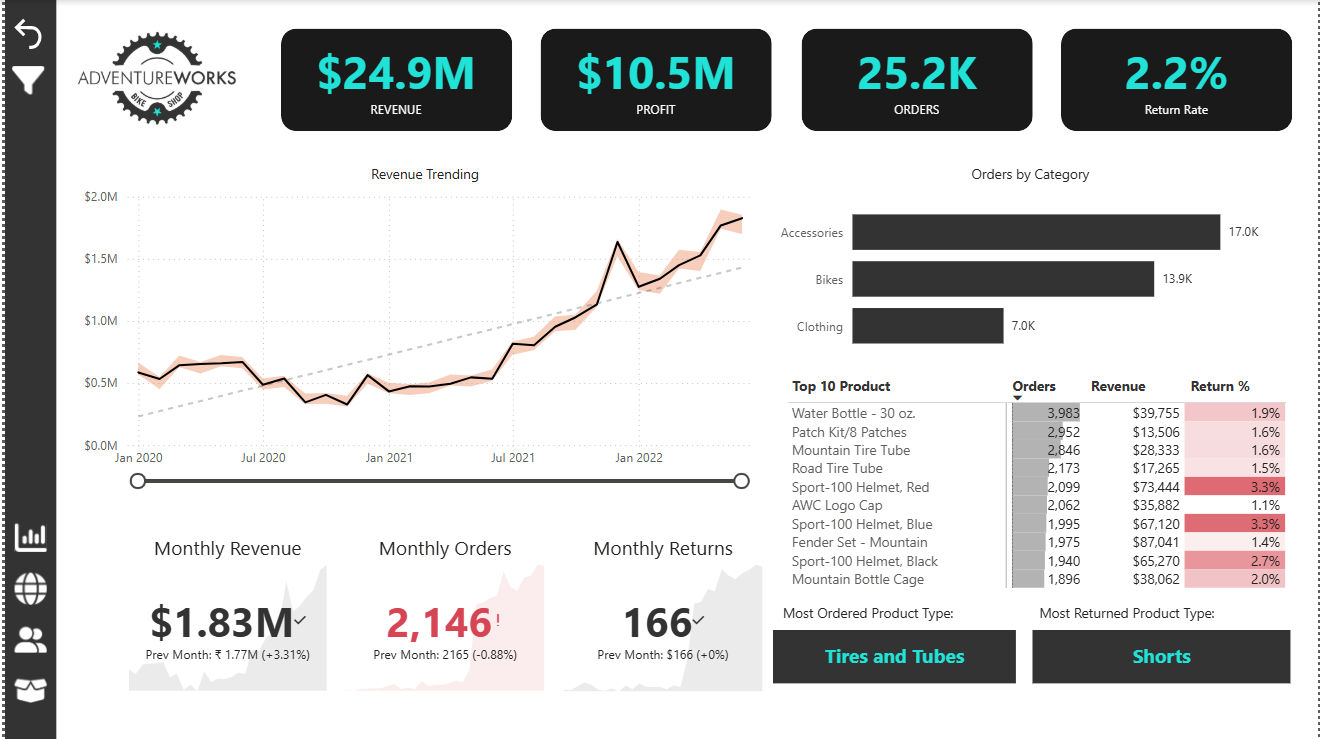

The page's visual inventory and layout, read from the dashboard file:
{"tool":"powerbi","page":{"name":"Exec Dashboard","canvas":[1280,720],"ordinal":0},"visuals":[{"type":"card","fields":{"Values":["Measure Table.Total Revenue"]},"box":[250.8,25.9,258.7,100],"z":0,"group":"g2"},{"type":"image","title":"AW Logo","box":[54,27,188.9,100],"z":0},{"type":"shape","box":[268.3,27,225.4,100],"z":0,"group":"g1"},{"type":"group","id":"g1","title":"KPI Background","box":[268.3,27,985.7,100],"z":0,"group":"g3"},{"type":"actionButton","box":[0,504.2,49.7,39.5],"z":0,"group":"g4"},{"type":"shape","title":"Left Nav Background","box":[0,0,50,720.6],"z":1000},{"type":"group","id":"g2","title":"KPI Values","box":[250.8,25.9,1019.6,100],"z":1000,"group":"g3"},{"type":"card","fields":{"Values":["Measure Table.Total Profit"]},"box":[503.9,25.9,259.3,100],"z":1000,"group":"g2"},{"type":"shape","box":[521.7,27,225.4,100],"z":1000,"group":"g1"},{"type":"actionButton","box":[0,603.6,49.7,39.5],"z":1000,"group":"g4"},{"type":"group","id":"g3","title":"KPIs Cards","box":[250.8,25.9,1019.6,101.1],"z":2000},{"type":"card","fields":{"Values":["Measure Table.Total Orders"]},"box":[757.5,25.9,259.3,100],"z":2000,"group":"g2"},{"type":"shape","box":[775.2,27,225.4,100],"z":2000,"group":"g1"},{"type":"actionButton","box":[0,653.3,49.7,39.5],"z":2000,"group":"g4"},{"type":"card","fields":{"Values":["Measure Table.Return Rate"]},"box":[1011.1,25.9,259.3,100],"z":3000,"group":"g2"},{"type":"shape","box":[1028.6,27,225.4,100],"z":3000,"group":"g1"},{"type":"lineChart","title":"Revenue Trending","fields":{"Category":["Calendar Lookup.Start of Month"],"Y":["Measure Table.Total Revenue"]},"box":[71.6,159.3,675.2,320.1],"z":3000},{"type":"actionButton","box":[0,553.9,49.7,39.5],"z":3000,"group":"g4"},{"type":"kpi","title":"Monthly Revenue","fields":{"Goal":["Measure Table.Pervious Month Revenue"],"Indicator":["Measure Table.Total Revenue"],"TrendLine":["Calendar Lookup.Start of Month"]},"box":[115.5,520.3,203.1,157.8],"z":4000},{"type":"kpi","title":"Monthly Orders","fields":{"Goal":["Measure Table.Previous Month Orders"],"Indicator":["Measure Table.Total Orders"],"TrendLine":["Calendar Lookup.Start of Month"]},"box":[327.5,520.3,203.1,157.8],"z":5000},{"type":"kpi","title":"Monthly Returns","fields":{"Goal":["Measure Table.Previous Month Returns"],"Indicator":["Measure Table.Total Returns"],"TrendLine":["Calendar Lookup.Start of Month"]},"box":[539.5,520.3,203.7,158.1],"z":6000},{"type":"clusteredBarChart","title":"Orders by Category","fields":{"Category":["Product Categories Lookup.CategoryName"],"Y":["Measure Table.Total Orders"]},"box":[745.3,159.3,507.1,200.2],"z":7000},{"type":"pivotTable","fields":{"Rows":["Product Lookup.ProductName"],"Values":["Measure Table.Total Orders","Measure Table.Total Revenue","Measure Table.Return Rate"]},"box":[757,361,507.1,222.1],"z":8000},{"type":"card","fields":{"Values":["Min(Product Subcategories Lookup.SubcategoryName)"]},"box":[748.9,614.3,236.3,52.2],"z":9000},{"type":"textbox","box":[752.7,581.7,182.7,32.2],"z":10000},{"type":"textbox","box":[1002.4,581.9,233.1,32.6],"z":11000},{"type":"card","fields":{"Values":["Min(Product Subcategories Lookup.SubcategoryName)"]},"box":[1000.8,614.5,251,52.2],"z":12000},{"type":"actionButton","box":[2.9,13.2,48.2,39.5],"z":13000},{"type":"group","id":"g4","title":"Nav Button","box":[0,504.2,49.7,188.5],"z":14000},{"type":"actionButton","box":[2.9,58.5,46.8,39.5],"z":15000}]}

Visuals, with their boxes on the page's 1280x720 design canvas (x1, y1, x2, y2). These are canvas units, not pixel positions in the 1320x739 screenshot, which may show the page scaled, cropped or inside an application window:
card - Measure Table.Total Revenue: l=251, t=26, r=510, b=126
"AW Logo" image: l=54, t=27, r=243, b=127
shape: l=268, t=27, r=494, b=127
"KPI Background" group: l=268, t=27, r=1254, b=127
actionButton: l=0, t=504, r=50, b=544
"Left Nav Background" shape: l=0, t=0, r=50, b=721
"KPI Values" group: l=251, t=26, r=1270, b=126
card - Measure Table.Total Profit: l=504, t=26, r=763, b=126
shape: l=522, t=27, r=747, b=127
actionButton: l=0, t=604, r=50, b=643
"KPIs Cards" group: l=251, t=26, r=1270, b=127
card - Measure Table.Total Orders: l=758, t=26, r=1017, b=126
shape: l=775, t=27, r=1001, b=127
actionButton: l=0, t=653, r=50, b=693
card - Measure Table.Return Rate: l=1011, t=26, r=1270, b=126
shape: l=1029, t=27, r=1254, b=127
"Revenue Trending" lineChart: l=72, t=159, r=747, b=479
actionButton: l=0, t=554, r=50, b=593
"Monthly Revenue" kpi: l=116, t=520, r=319, b=678
"Monthly Orders" kpi: l=328, t=520, r=531, b=678
"Monthly Returns" kpi: l=540, t=520, r=743, b=678
"Orders by Category" clusteredBarChart: l=745, t=159, r=1252, b=360
pivotTable - Product Lookup.ProductName x Measure Table.Total Orders: l=757, t=361, r=1264, b=583
card - Min(Product Subcategories Lookup.SubcategoryName): l=749, t=614, r=985, b=666
textbox: l=753, t=582, r=935, b=614
textbox: l=1002, t=582, r=1236, b=614
card - Min(Product Subcategories Lookup.SubcategoryName): l=1001, t=614, r=1252, b=667
actionButton: l=3, t=13, r=51, b=53
"Nav Button" group: l=0, t=504, r=50, b=693
actionButton: l=3, t=58, r=50, b=98
